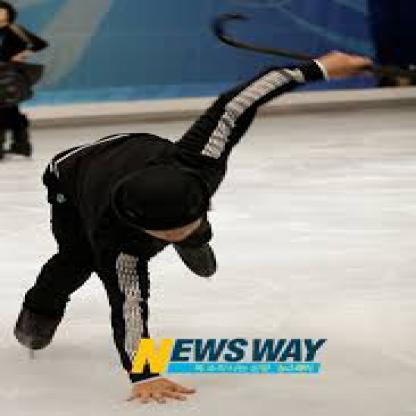Fall_Down: (8, 46, 379, 408)
